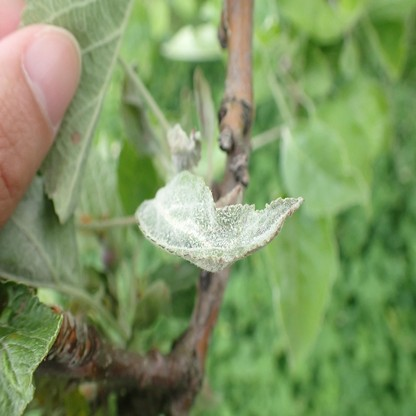powder: (135, 168, 306, 274)
scab: (70, 132, 82, 145)
